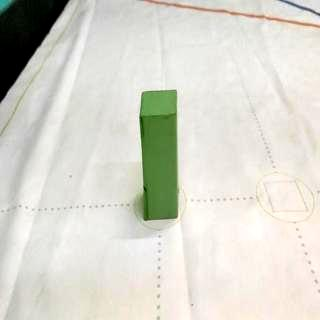greenbox: (138, 87, 182, 224)
